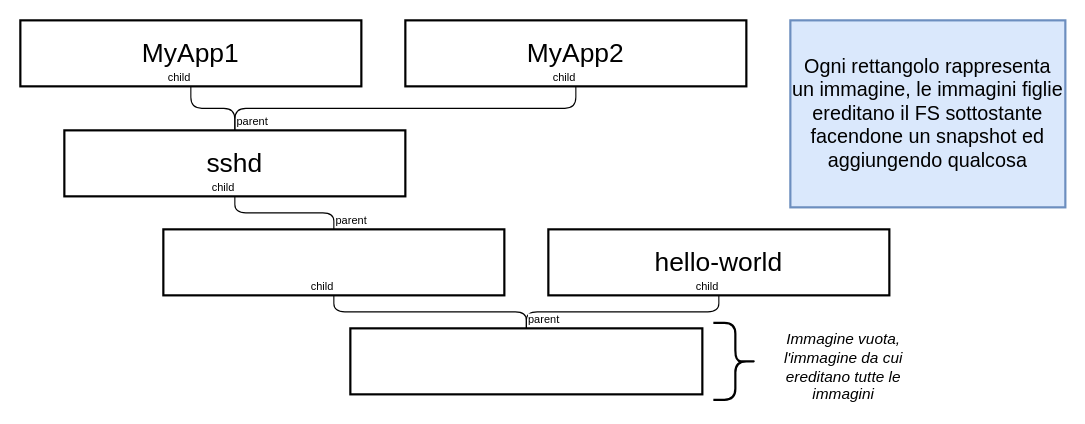
Some shapes in this 1085 by 424 pixel diagram are drawn without their labels. Each missing label, with the centre of its shape:
busybox: [333,262]
Scratch: [526,361]
